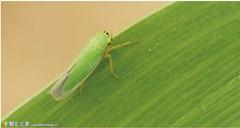pest: (46, 29, 112, 101)
